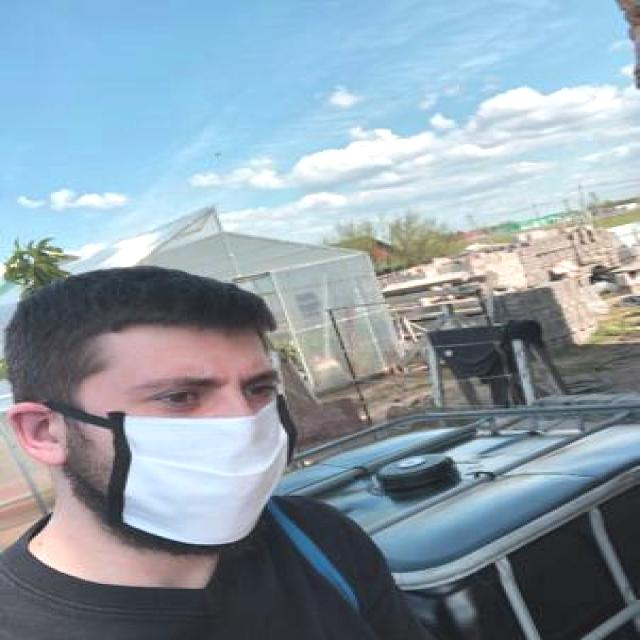face_mask: (96, 357, 296, 550)
head_nohelmet: (17, 270, 306, 364)
